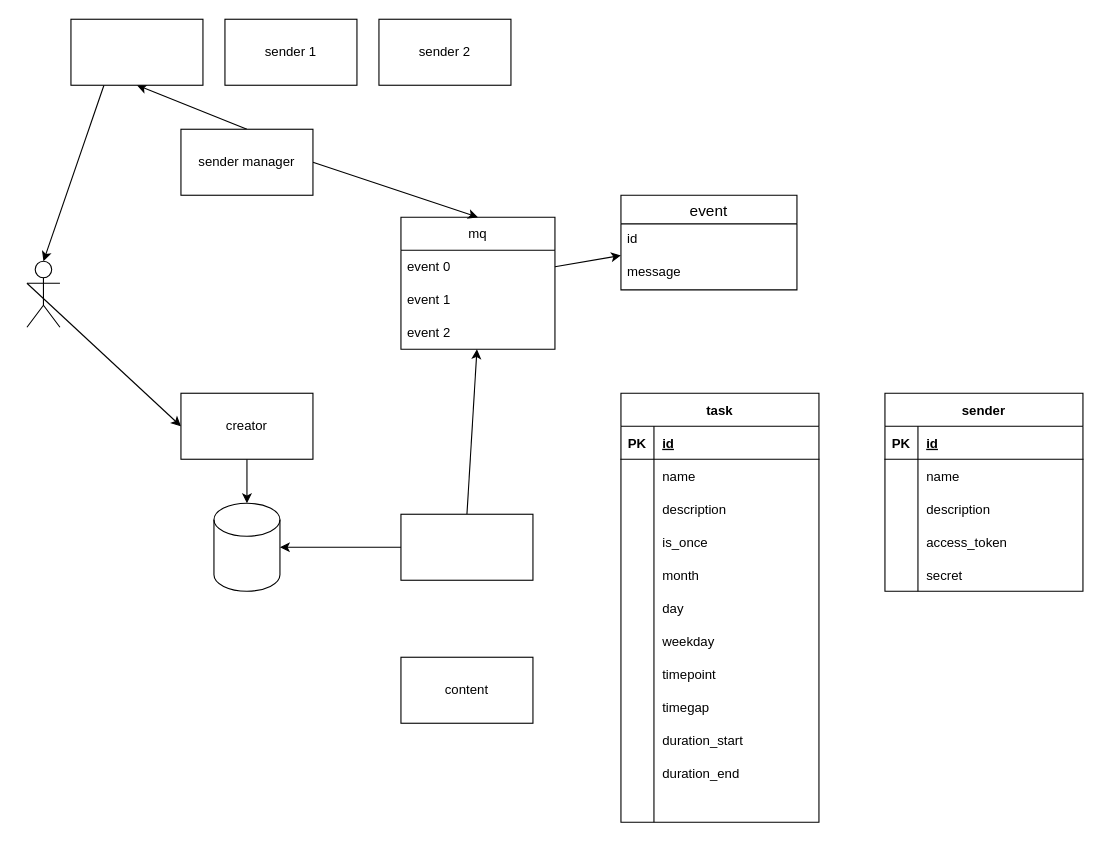
The diagram is 1102 pixels wide and 842 high, and some of its shapes have lost their labels. Each missing label, with the centre of its shape:
"db" belongs at pixel 246 546.
"scheduler" belongs at pixel 466 546.
"sender 0" belongs at pixel 136 51.
"User" belongs at pixel 43 293.
